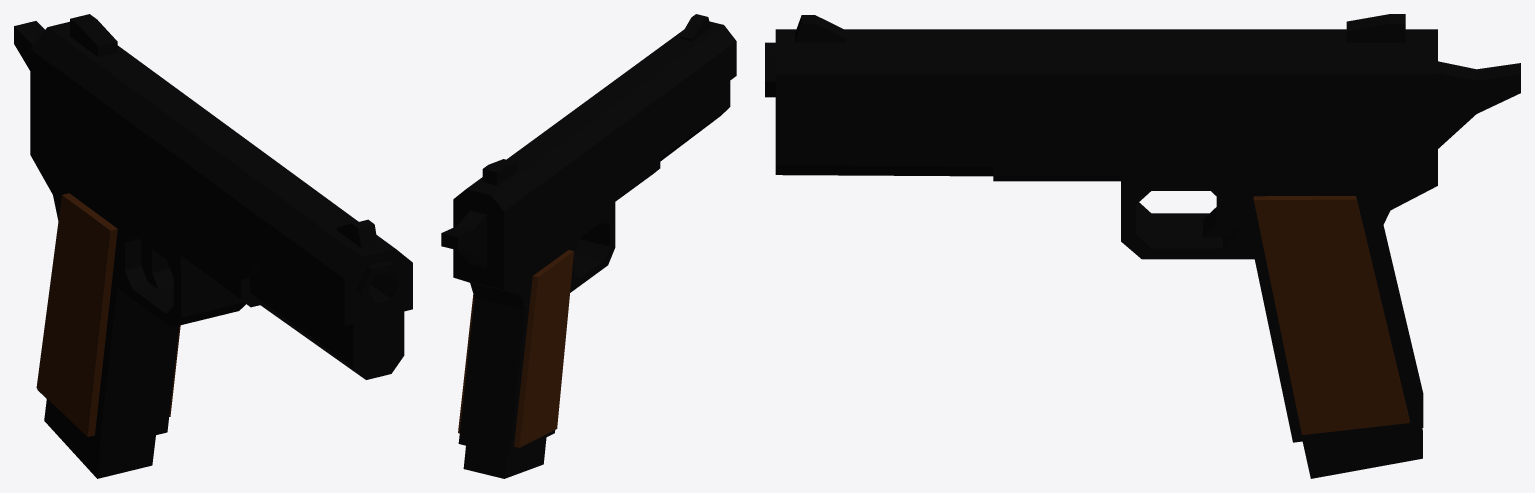
The picture shows the model from 3 angles, left to right: view 1: azimuth 30°, elevation 25°; view 2: azimuth 150°, elevation 25°; view 3: azimuth 270°, elevation 25°; orthographic projection. The views are drawn at different scales.
Visible parts, largest first — view 1: PistolBody, PistolMagazine, PistolBarrel, PistolTrigger; view 2: PistolBody, PistolMagazine; view 3: PistolBody, PistolMagazine, PistolTrigger.
Part boxes in pixels (bbox=[...]): PistolBody: bbox=[14, 14, 412, 448]; PistolMagazine: bbox=[44, 399, 155, 478]; PistolBarrel: bbox=[356, 260, 406, 310]; PistolTrigger: bbox=[141, 241, 173, 289]; PistolBody: bbox=[441, 14, 736, 455]; PistolMagazine: bbox=[463, 437, 546, 478]; PistolBody: bbox=[775, 14, 1520, 442]; PistolMagazine: bbox=[1302, 428, 1422, 478]; PistolTrigger: bbox=[1203, 191, 1238, 237].
Size of the model in its own units: 0.0217 by 0.1057 by 0.1623.
2 materials, 1 textured.
